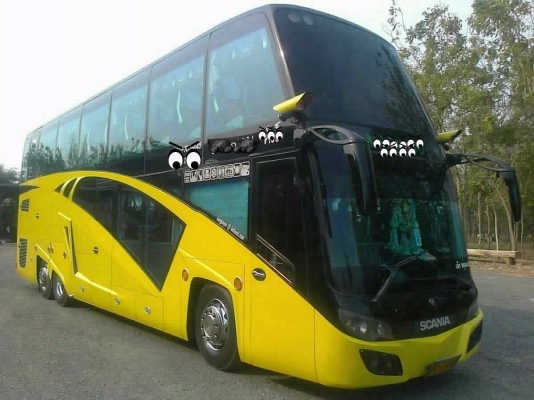bus: (17, 4, 483, 389)
